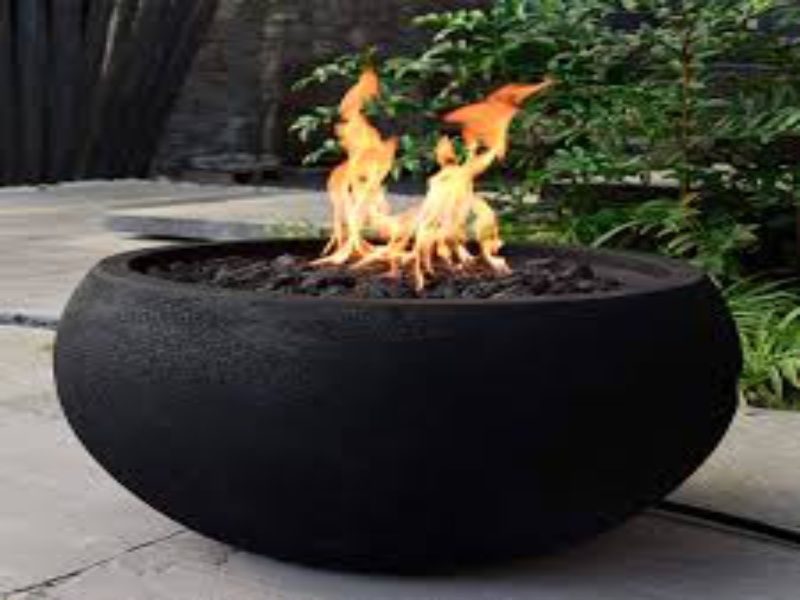fire: (300, 68, 547, 270)
